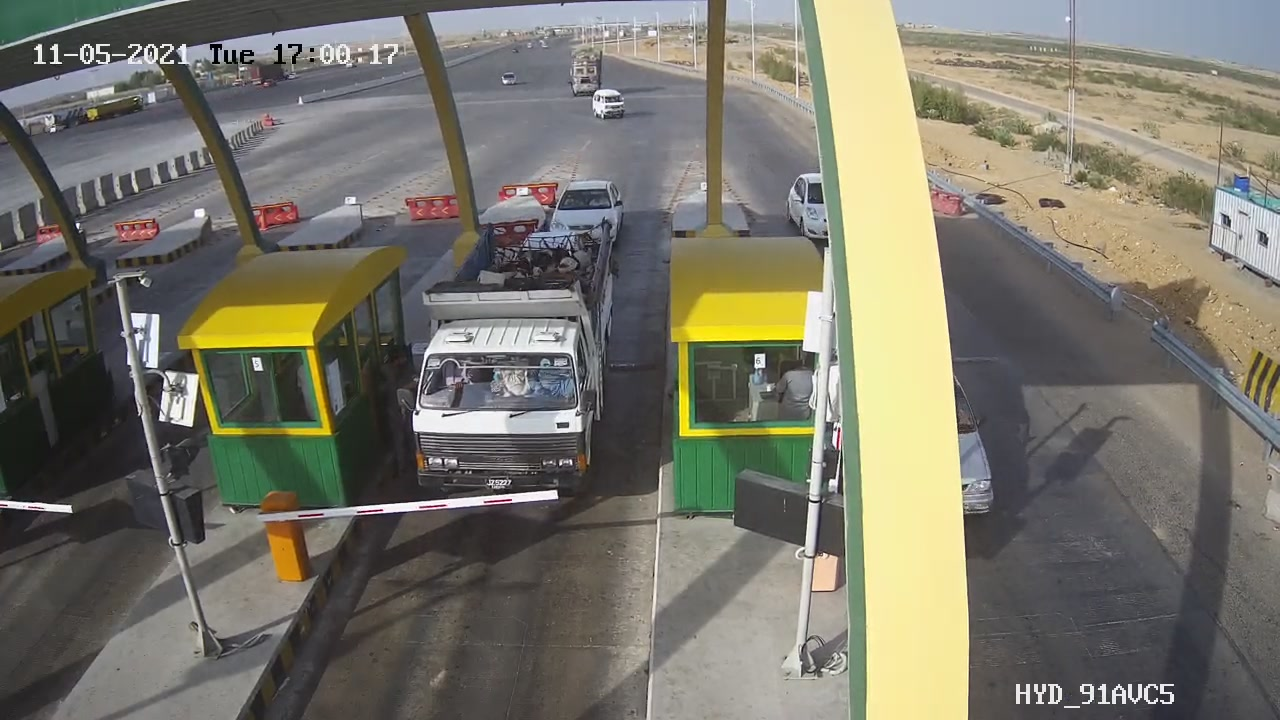F3: (389, 214, 635, 526)
